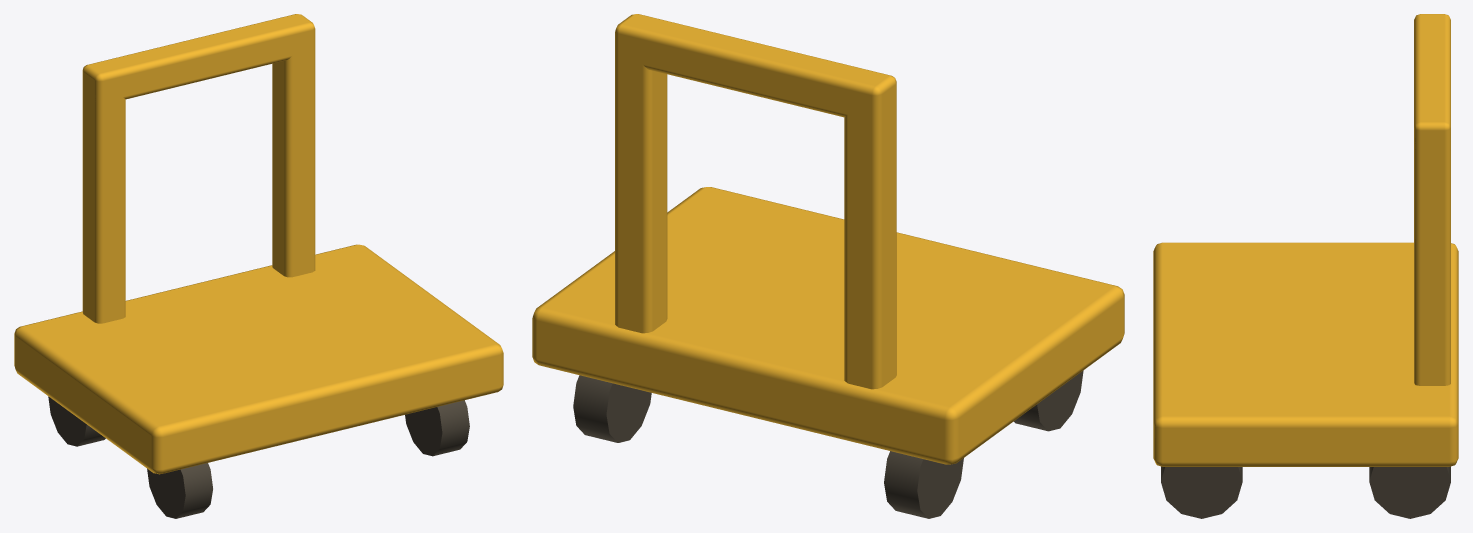
The model's file is mall-flatbed-cart.glb.
3 renders of one model, left to right at view 1: azimuth 30°, elevation 25°; view 2: azimuth 150°, elevation 25°; view 3: azimuth 270°, elevation 25°, orthographic. The views are drawn at different scales.
Parts seen in each view (by area): view 1: deck, handle-right, handle-left, handle-top, wheel--0.42-0.28, wheel-0.42-0.28, wheel--0.42--0.28; view 2: deck, handle-left, handle-top, handle-right, wheel--0.42--0.28, wheel-0.42--0.28, wheel--0.42-0.28; view 3: deck, handle-right, handle-top, wheel-0.42--0.28, wheel-0.42-0.28.
Part boxes in pixels (x1,y1,x2,y2): deck: (14,244,503,474); handle-right: (272,14,315,277); handle-left: (82,60,125,323); handle-top: (82,14,315,101); wheel--0.42-0.28: (147,463,212,518); wheel-0.42-0.28: (405,400,469,456); wheel--0.42--0.28: (48,396,105,446); deck: (532,187,1124,464); handle-left: (844,72,896,389); handle-top: (615,14,896,120); handle-right: (615,14,667,333); wheel--0.42--0.28: (884,451,963,518); wheel-0.42--0.28: (573,375,651,442); wheel--0.42-0.28: (1014,370,1083,431); deck: (1153,242,1458,466); handle-right: (1414,113,1450,385); handle-top: (1414,14,1450,152); wheel-0.42--0.28: (1369,466,1450,518); wheel-0.42-0.28: (1161,466,1242,518).
Size of the model in its own units: 1.15 by 1.12 by 0.82.
